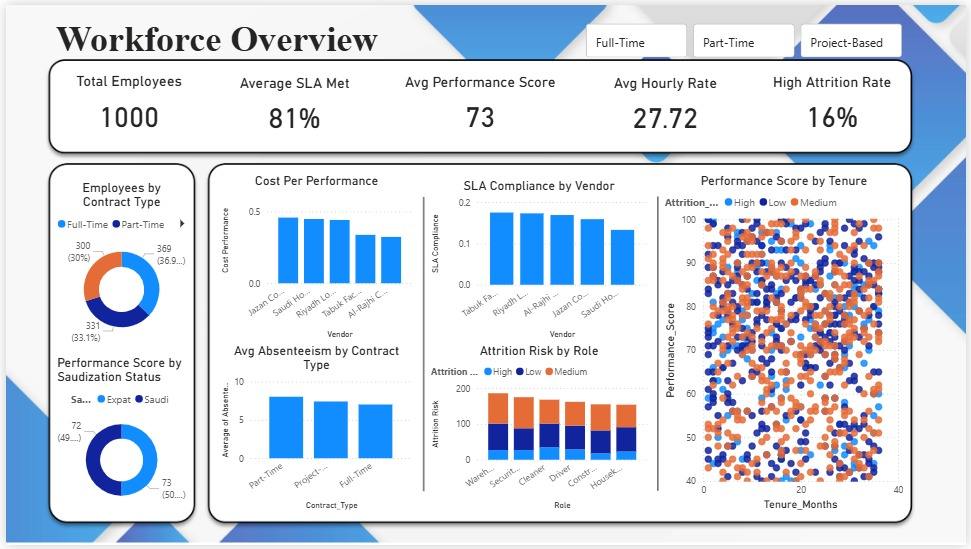

This screenshot's page, from the dashboard's own definition file:
{"tool":"powerbi","page":{"name":"Page 1","canvas":[1280,720],"ordinal":0},"visuals":[{"type":"clusteredColumnChart","title":"SLA Compliance by Vendor","fields":{"Category":["Sheet1.Vendor"],"Y":["Sheet1.avg_sla_met"]},"box":[561.7,230,298.3,220],"z":0},{"type":"columnChart","title":"Attrition Risk by Role","fields":{"Category":["Sheet1.Role"],"Series":["Sheet1.Attrition_Risk"],"Y":["CountNonNull(Sheet1.Attrition_Risk)"]},"box":[561.7,450,298.3,228.3],"z":1000},{"type":"donutChart","title":"Performance Score by Saudization Status","fields":{"Category":["Sheet1.Saudization_Status"],"Y":["Sheet1.performance_%"]},"box":[64,466,182,212],"z":2000},{"type":"clusteredColumnChart","title":"Cost Per Performance","fields":{"Category":["Sheet1.Vendor"],"Y":["Sheet1.cost_performance_%"]},"box":[281.7,223.3,265,226.7],"z":3000},{"type":"scatterChart","title":"Performance Score by Tenure ","fields":{"X":["Sheet1.Tenure_Months"],"Y":["Sheet1.Performance_Score"],"Series":["Sheet1.Attrition_Risk"]},"box":[873.3,223.3,328.3,455],"z":4000},{"type":"card","title":"Avg Performance Score","fields":{"Values":["Sheet1.performance_%"]},"box":[518.8,92.3,228.3,86.7],"z":5000},{"type":"card","title":"Avg Hourly Rate","fields":{"Values":["Sheet1.avg_hourly_rate"]},"box":[797.4,92.7,165,86.7],"z":6000},{"type":"card","title":"High Attrition Rate","fields":{"Values":["Sheet1.attrition_high_rate"]},"box":[1012.7,92.3,176.7,86.7],"z":7000},{"type":"card","title":"Average SLA Met","fields":{"Values":["Sheet1.avg_sla_met"]},"box":[301.9,92.7,166.7,86.7],"z":8000},{"type":"donutChart","title":"Employees by Contract Type","fields":{"Category":["Sheet1.Contract_Type"],"Y":["CountNonNull(Sheet1.Employee_ID)"]},"box":[64,234,182,224],"z":9000},{"type":"clusteredColumnChart","title":"Avg Absenteeism by Contract Type","fields":{"Category":["Sheet1.Contract_Type"],"Y":["Avg(Sheet1.Absenteeism_Days)"]},"box":[281.7,450,265,228.3],"z":10000},{"type":"textbox","box":[61.7,13.3,625,88.3],"z":11000},{"type":"card","title":"Total Employees","fields":{"Values":["_measures.Total Employees"]},"box":[76.7,90,175,90],"z":12000},{"type":"advancedSlicerVisual","fields":{"Values":["Sheet1.Contract_Type"]},"box":[768.3,20,433.3,55],"z":12001}]}

Visuals, with their boxes in screenshot pixels (x1, y1, x2, y2), scaled from the page's 1280x720 canvas onto the 971x549 screenshot:
"SLA Compliance by Vendor" clusteredColumnChart: {"left": 426, "top": 175, "right": 652, "bottom": 343}
"Attrition Risk by Role" columnChart: {"left": 426, "top": 343, "right": 652, "bottom": 517}
"Performance Score by Saudization Status" donutChart: {"left": 49, "top": 355, "right": 187, "bottom": 517}
"Cost Per Performance" clusteredColumnChart: {"left": 214, "top": 170, "right": 415, "bottom": 343}
"Performance Score by Tenure " scatterChart: {"left": 662, "top": 170, "right": 912, "bottom": 517}
"Avg Performance Score" card: {"left": 394, "top": 70, "right": 567, "bottom": 136}
"Avg Hourly Rate" card: {"left": 605, "top": 71, "right": 730, "bottom": 137}
"High Attrition Rate" card: {"left": 768, "top": 70, "right": 902, "bottom": 136}
"Average SLA Met" card: {"left": 229, "top": 71, "right": 355, "bottom": 137}
"Employees by Contract Type" donutChart: {"left": 49, "top": 178, "right": 187, "bottom": 349}
"Avg Absenteeism by Contract Type" clusteredColumnChart: {"left": 214, "top": 343, "right": 415, "bottom": 517}
textbox: {"left": 47, "top": 10, "right": 521, "bottom": 77}
"Total Employees" card: {"left": 58, "top": 69, "right": 191, "bottom": 137}
advancedSlicerVisual - Sheet1.Contract_Type: {"left": 583, "top": 15, "right": 912, "bottom": 57}
